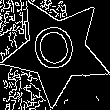O_S: (30, 21, 83, 81)
